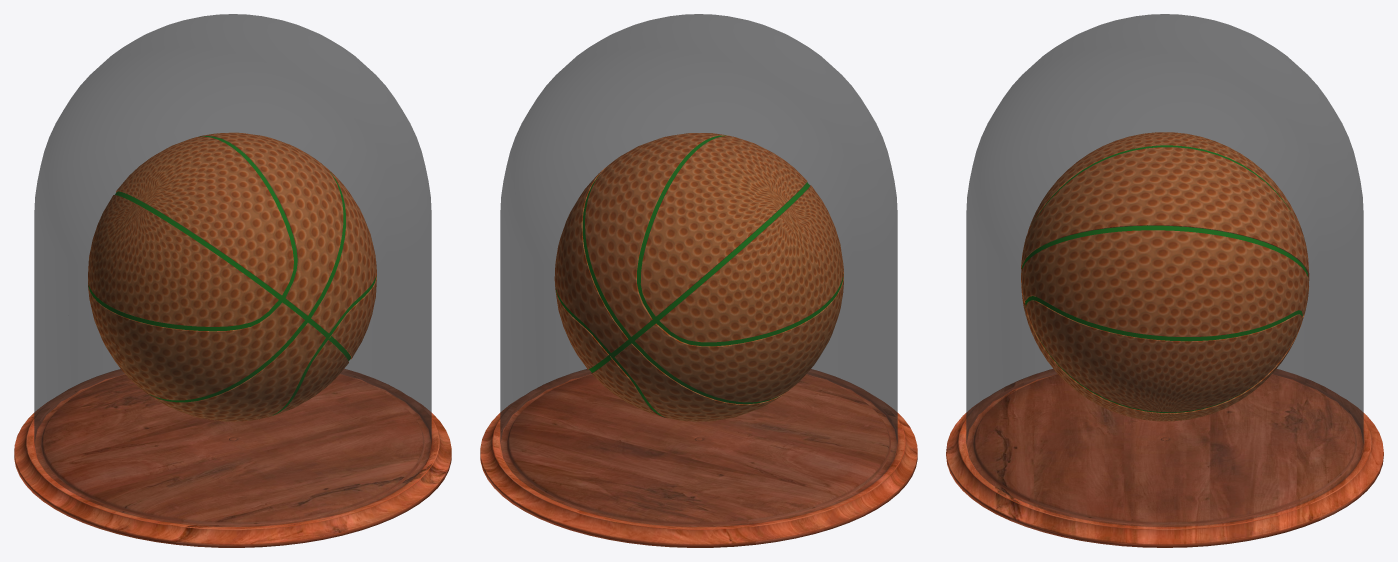
File: basketball2.0.obj
3 renders of one model, left to right at view 1: azimuth 30°, elevation 25°; view 2: azimuth 150°, elevation 25°; view 3: azimuth 270°, elevation 25°, orthographic.
Visible parts, largest first — view 1: Capsule002, NBA_BASKETBALL001, Circle001, Object001; view 2: Capsule002, NBA_BASKETBALL001, Circle001, Object001; view 3: Capsule002, NBA_BASKETBALL001, Circle001, Object001.
Boxes of the visible parts, x1,y1,x2,y2 form: Capsule002: [34, 14, 431, 526]; NBA_BASKETBALL001: [88, 132, 376, 421]; Circle001: [14, 369, 451, 547]; Object001: [88, 136, 376, 415]; Capsule002: [500, 14, 897, 526]; NBA_BASKETBALL001: [554, 133, 843, 421]; Circle001: [480, 369, 917, 547]; Object001: [556, 135, 843, 416]; Capsule002: [966, 14, 1363, 526]; NBA_BASKETBALL001: [1021, 132, 1309, 421]; Circle001: [946, 369, 1383, 547]; Object001: [1022, 145, 1307, 412].
Bounding box in the file's own units: 14.17 × 15.26 × 14.17.
4 materials, 2 textured.
